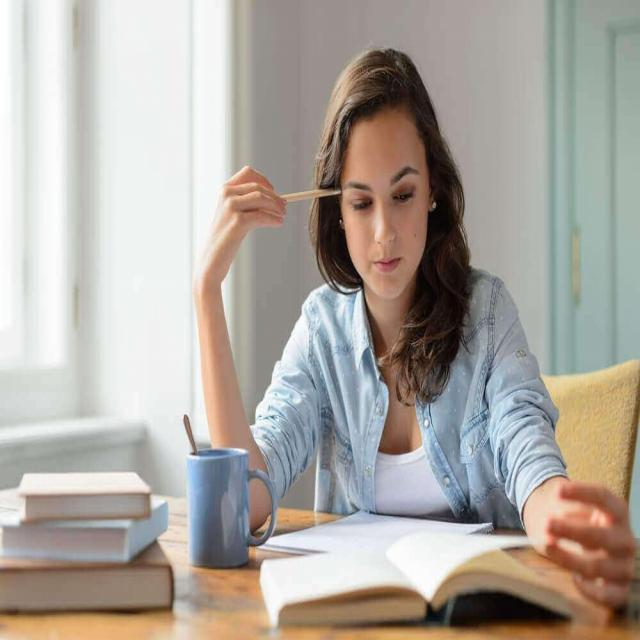person: (128, 26, 639, 614)
